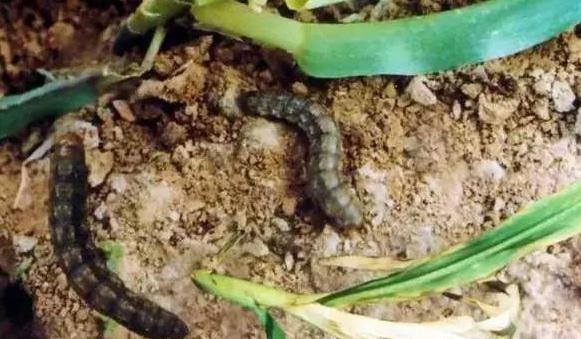caterpillars: (225, 73, 392, 247)
